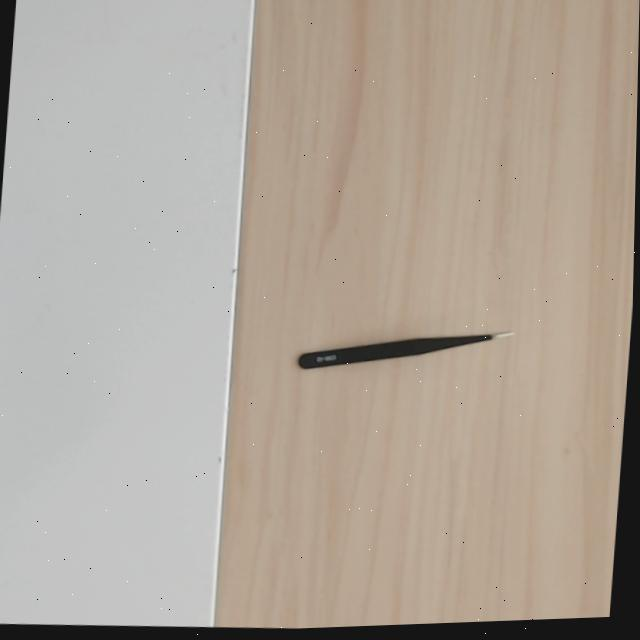Tweezers: (296, 323, 514, 370)
